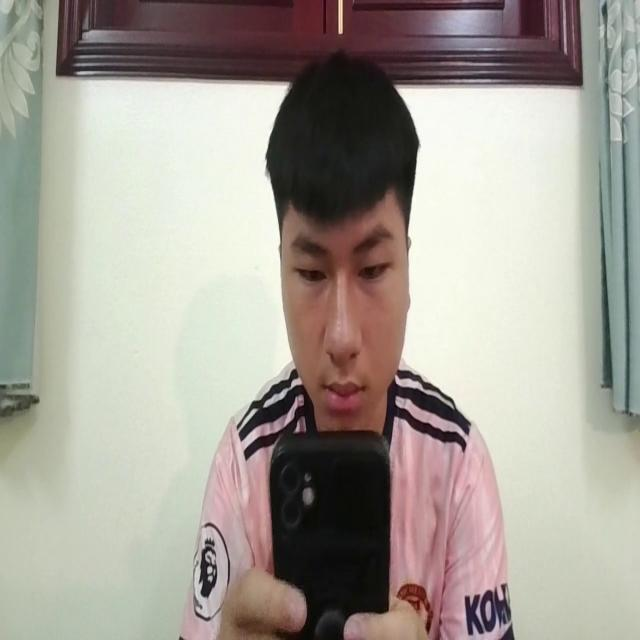phone: (268, 423, 387, 640)
student: (172, 53, 512, 640)
